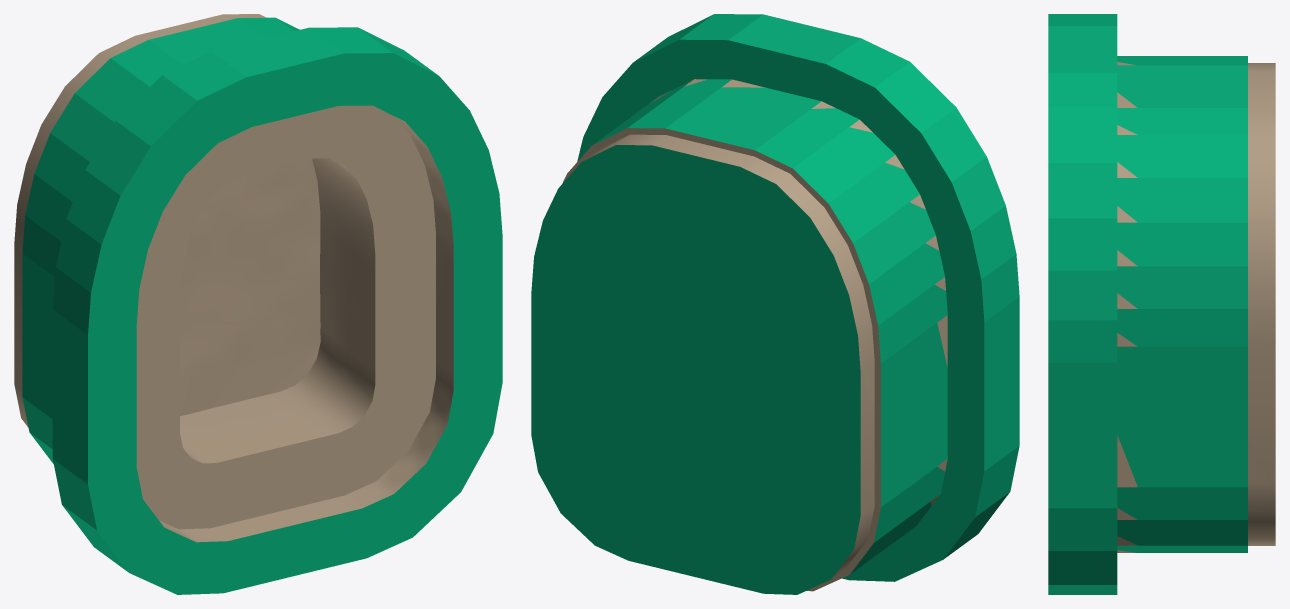
The model's file is TT_End.fbx.
The picture shows the model from 3 angles, left to right: view 1: azimuth 30°, elevation 25°; view 2: azimuth 150°, elevation 25°; view 3: azimuth 270°, elevation 25°; orthographic projection. The views are drawn at different scales.
Visible parts, largest first — view 1: TT_End_LOD0; view 2: TT_End_LOD0; view 3: TT_End_LOD0.
Part boxes in pixels (box(x1,y1,x2,y2)): TT_End_LOD0: box(14, 14, 502, 594); TT_End_LOD0: box(531, 14, 1019, 594); TT_End_LOD0: box(1048, 14, 1275, 594).
Size of the model in its own units: 340 by 400 by 165.
